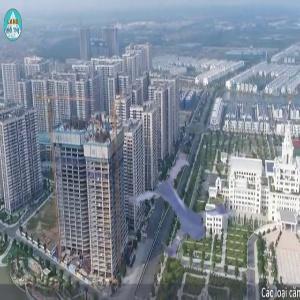drone: (125, 155, 251, 281)
